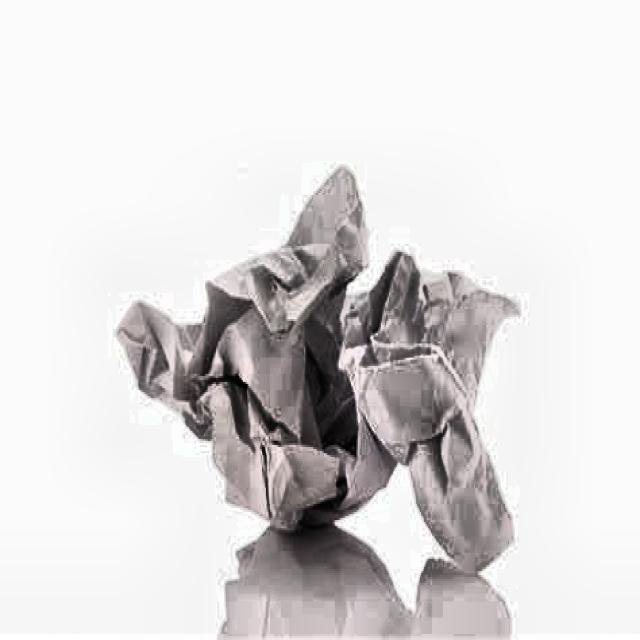Paper: (116, 168, 530, 580)
